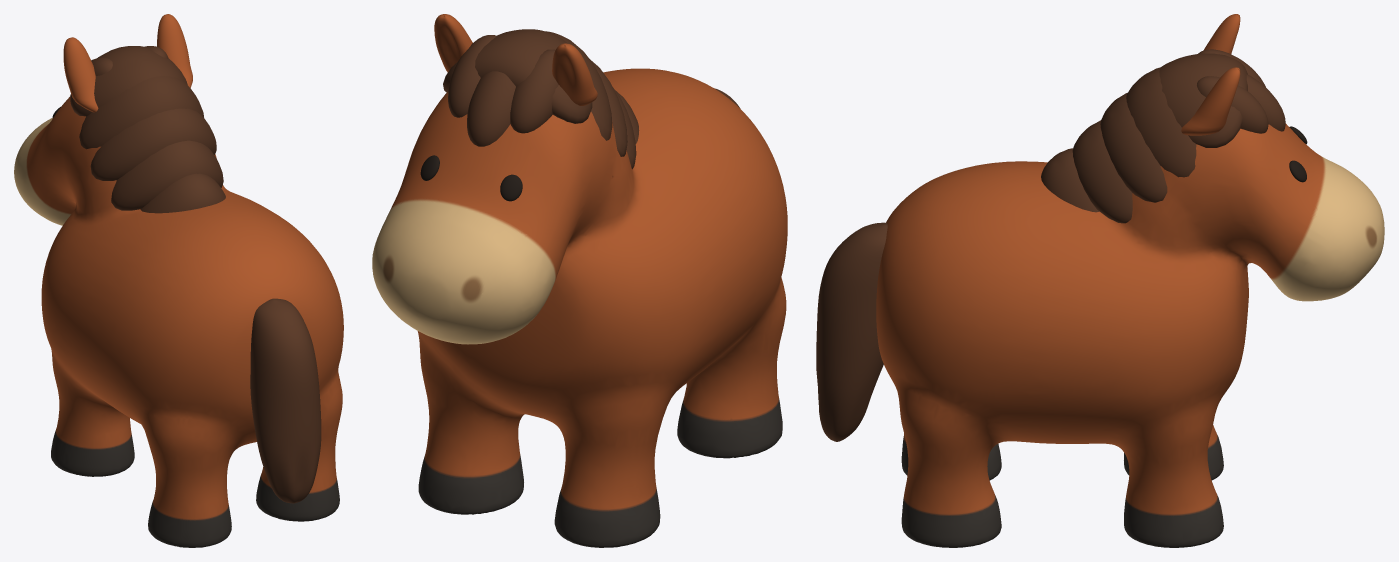
3 views of the same model, side by side, from view 1: azimuth 30°, elevation 25°; view 2: azimuth 150°, elevation 25°; view 3: azimuth 270°, elevation 25° (orthographic). The views are drawn at different scales.
Size of the model in its own units: 0.8918 by 1.5 by 1.68.
1 material, 1 textured.
